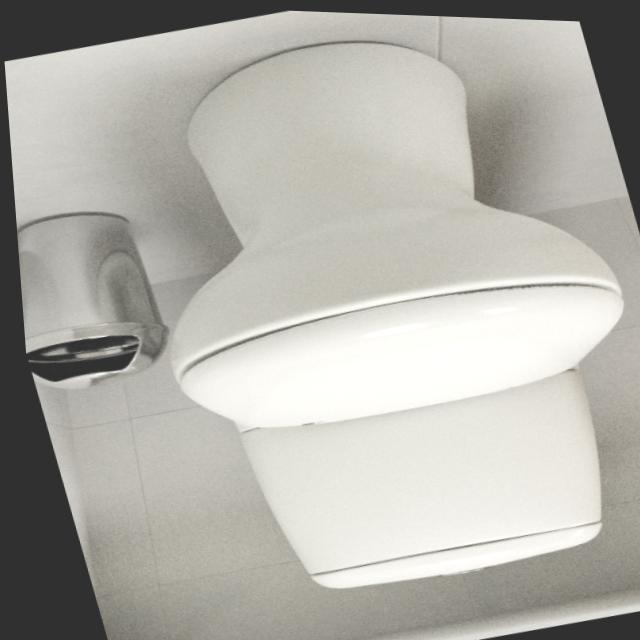toilet: (83, 2, 640, 625)
